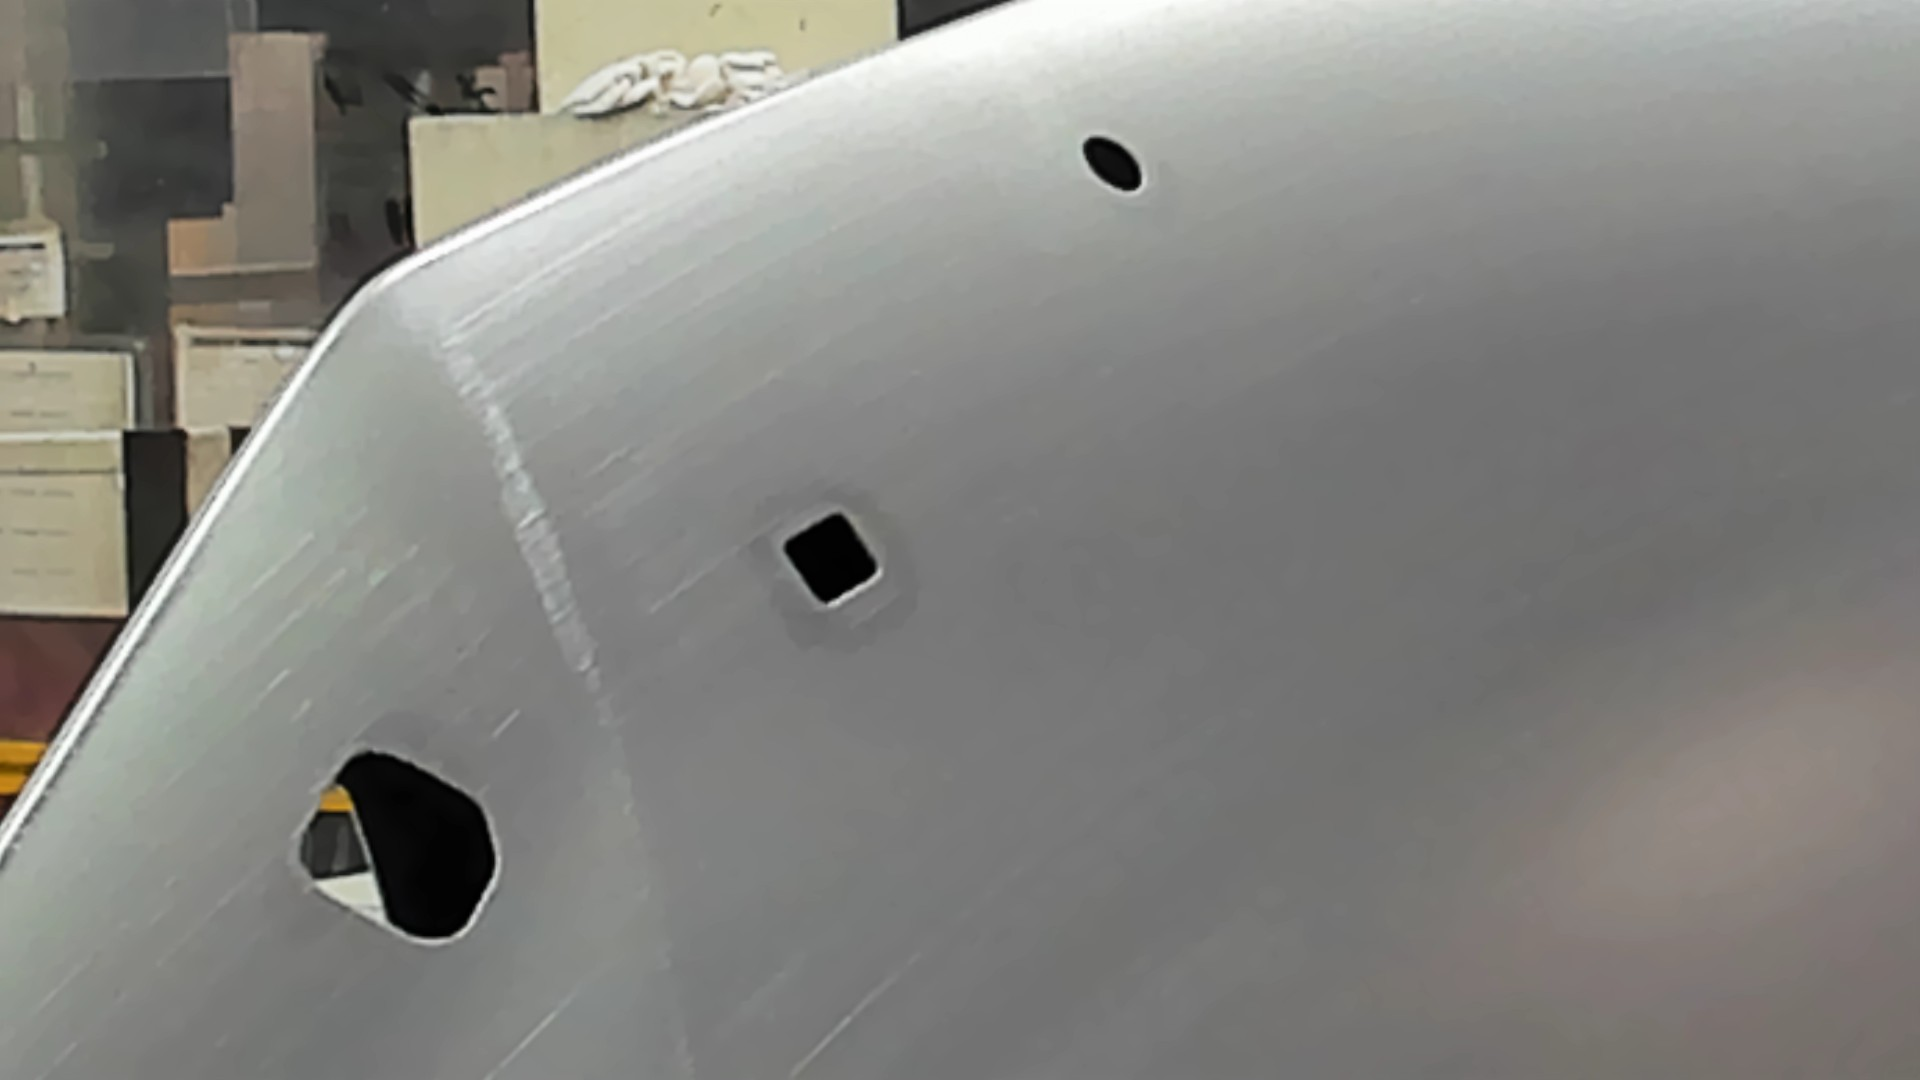capo: (889, 200, 1920, 1080)
chico: (1079, 132, 1147, 199)
grande: (282, 738, 496, 951)
mediano: (777, 509, 887, 611)
